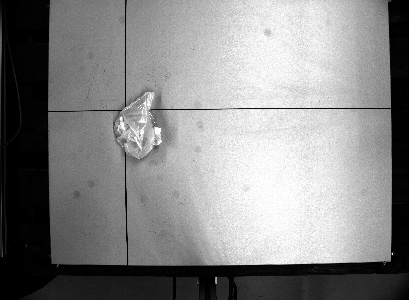t3: (109, 87, 167, 161)
